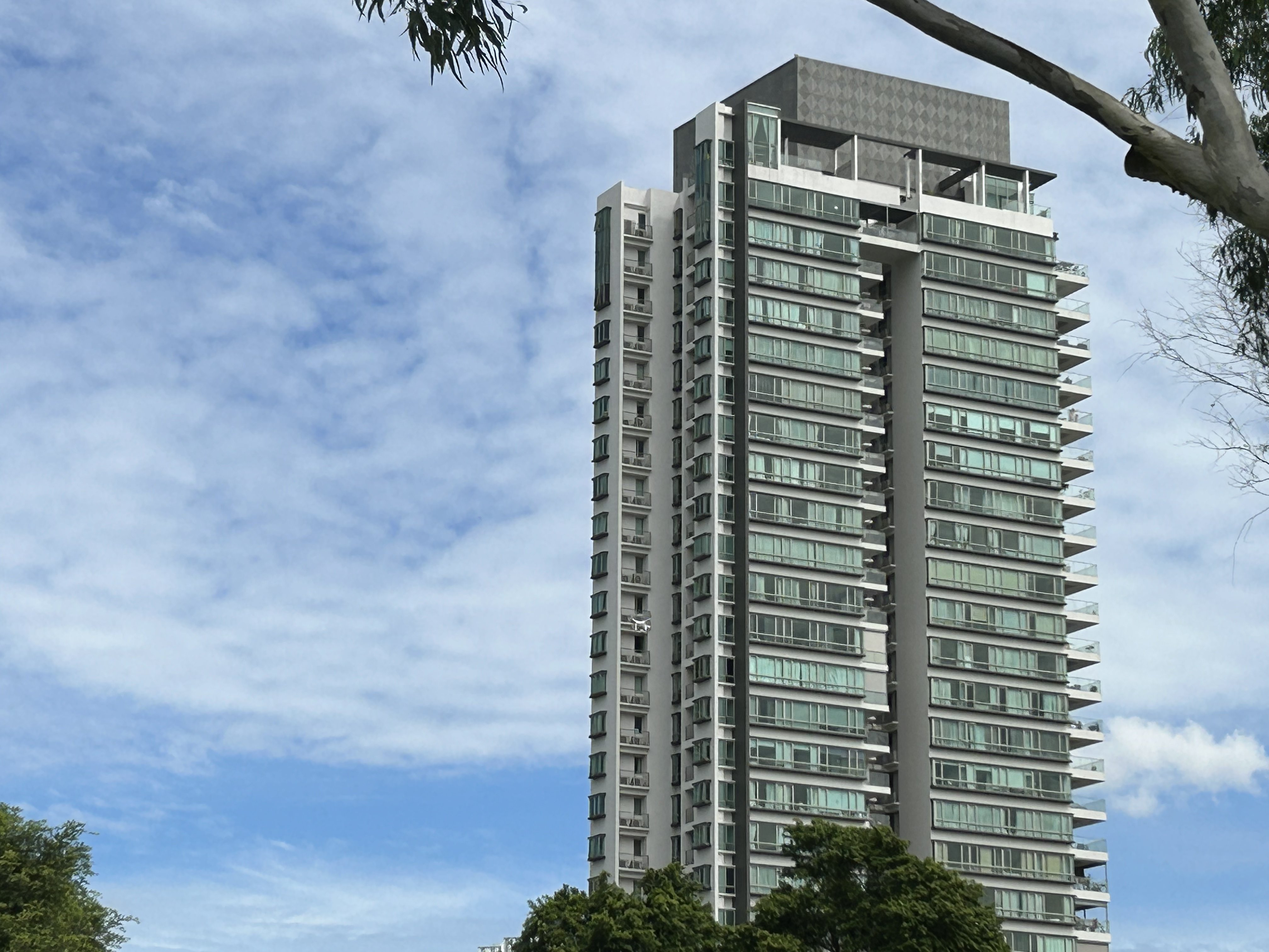drone_other: (626, 613, 653, 634)
